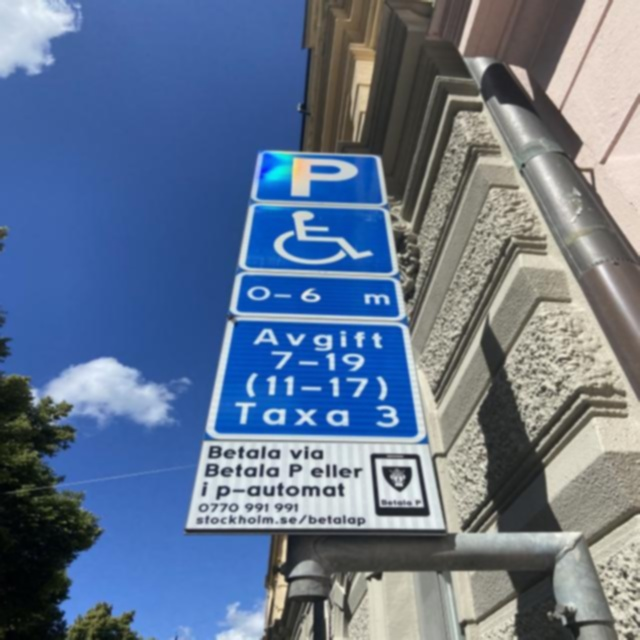P-skylt: (252, 153, 384, 204)
